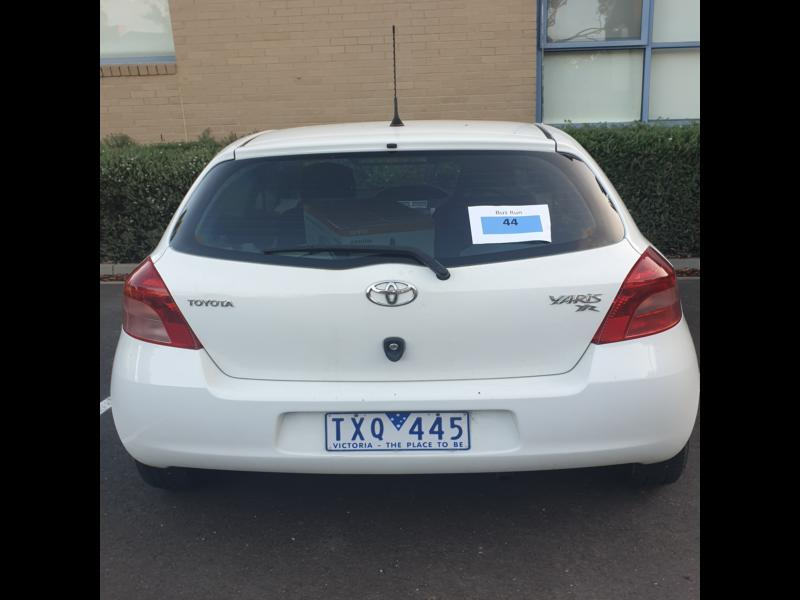BusRun: (479, 214, 546, 234)
PlateNo: (323, 411, 471, 445)
